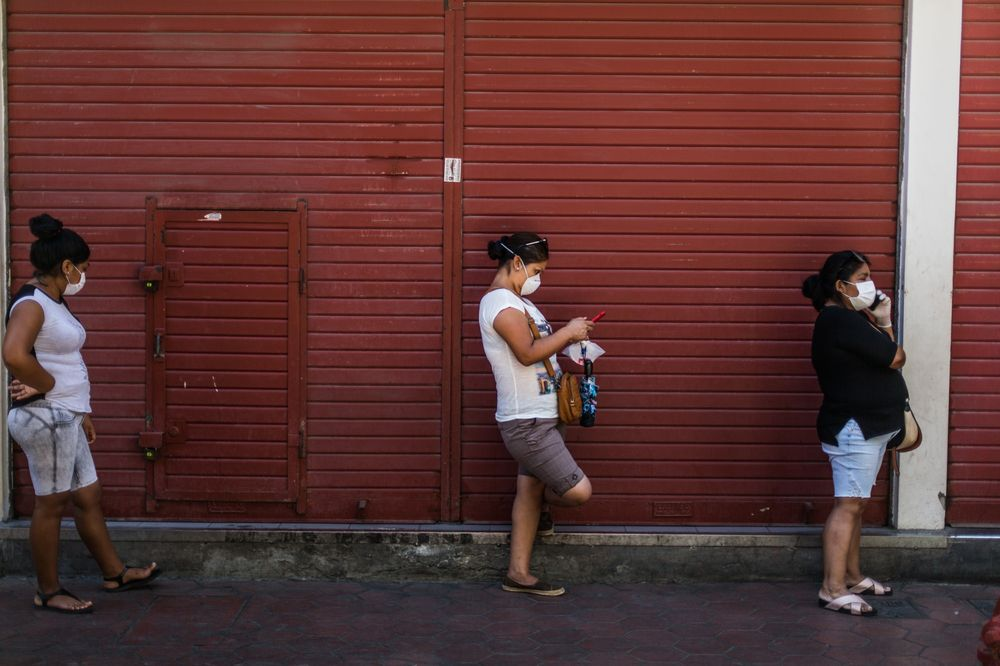with_mask: (25, 219, 92, 311), (475, 233, 553, 297), (831, 251, 882, 318)
